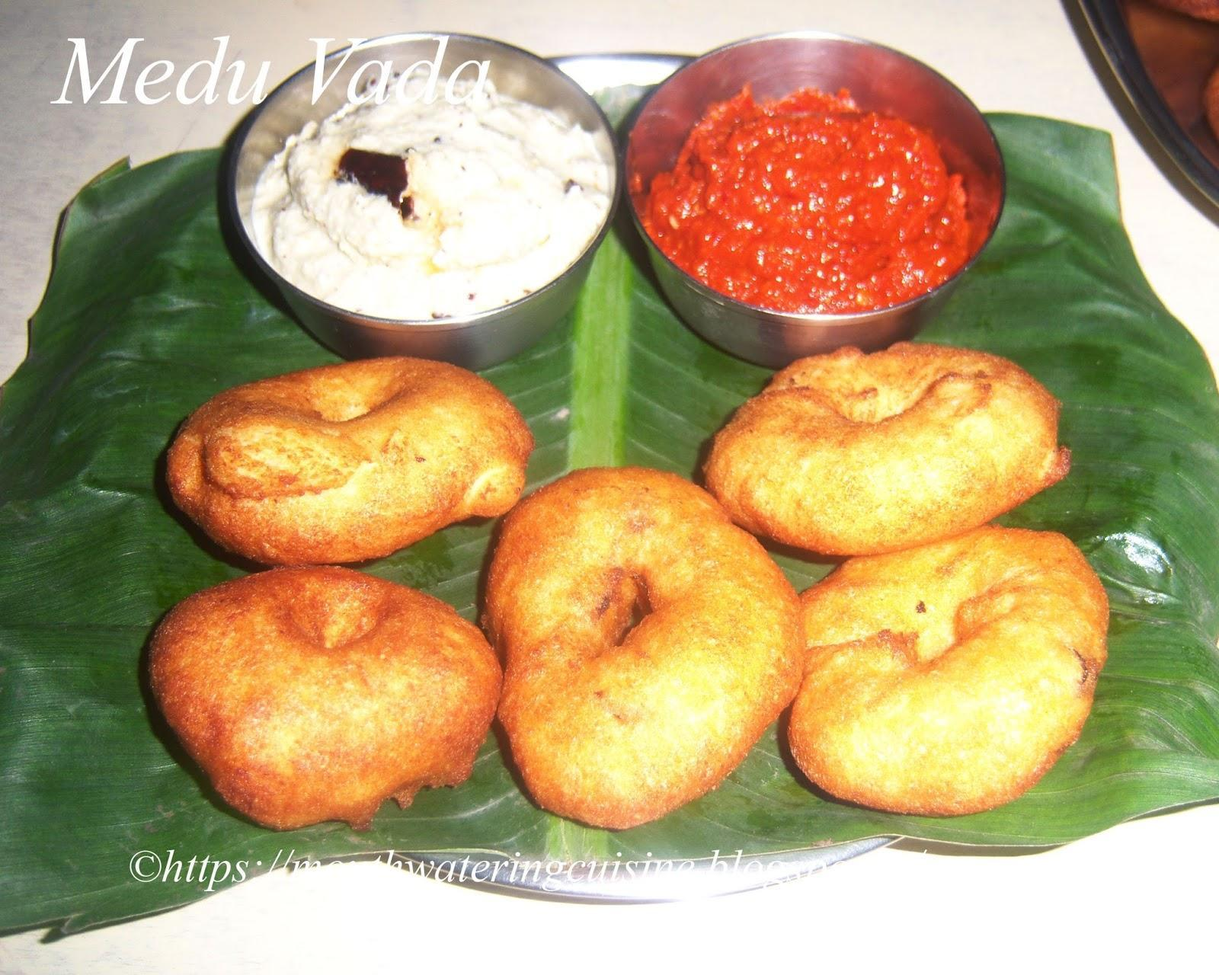mvada: (222, 386, 1052, 732)
